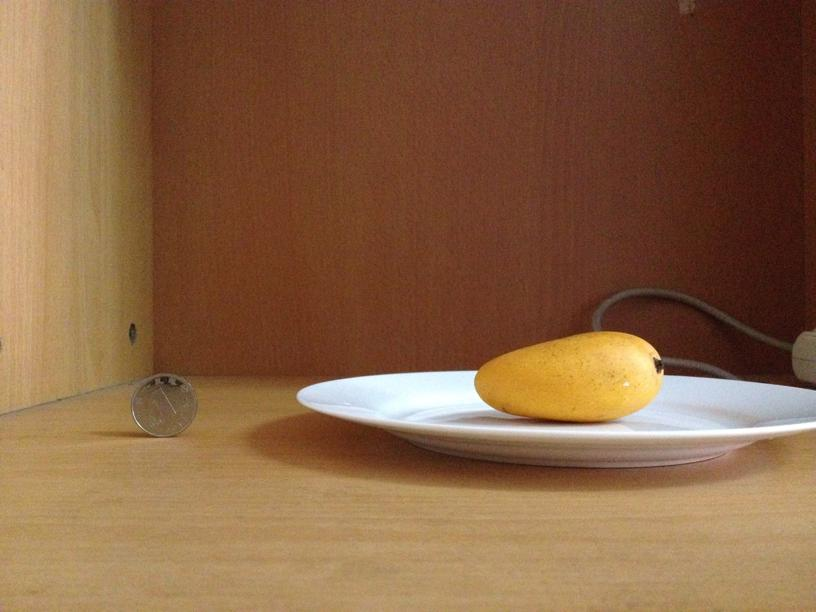coin: (127, 371, 200, 438)
mango: (473, 331, 664, 419)
